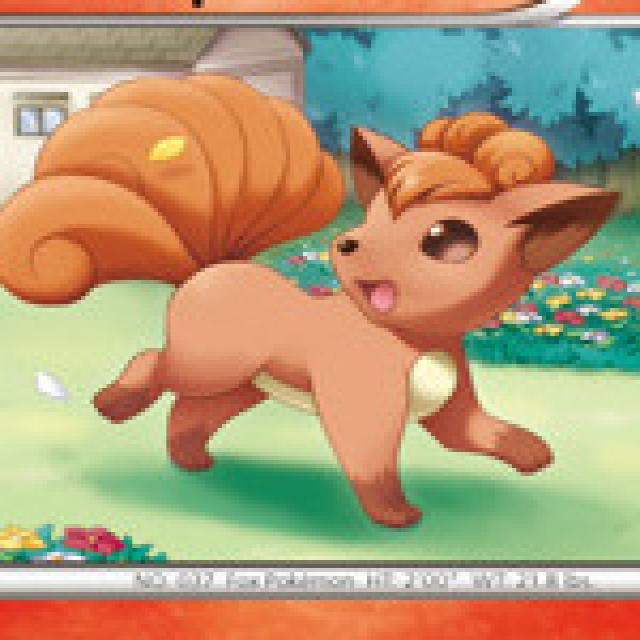Vulpix: (85, 106, 628, 503)
